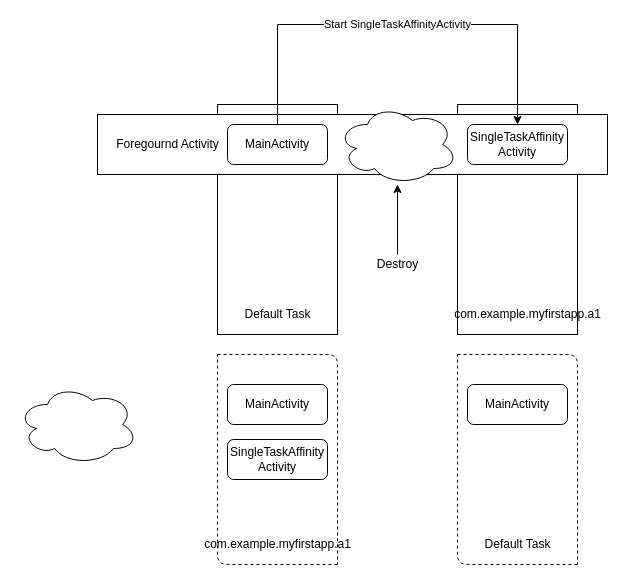
The diagram is 625 pixels wide and 583 high, and some of its shapes have lost their labels. Each missing label, with the centre of its shape:
Background Task: the point at 77,424
MainActivity in com.example.myfirstapp.a1: the point at 397,144
